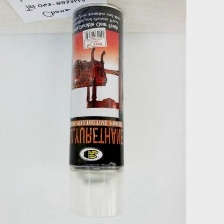aerosol_cans: (64, 0, 129, 221)
